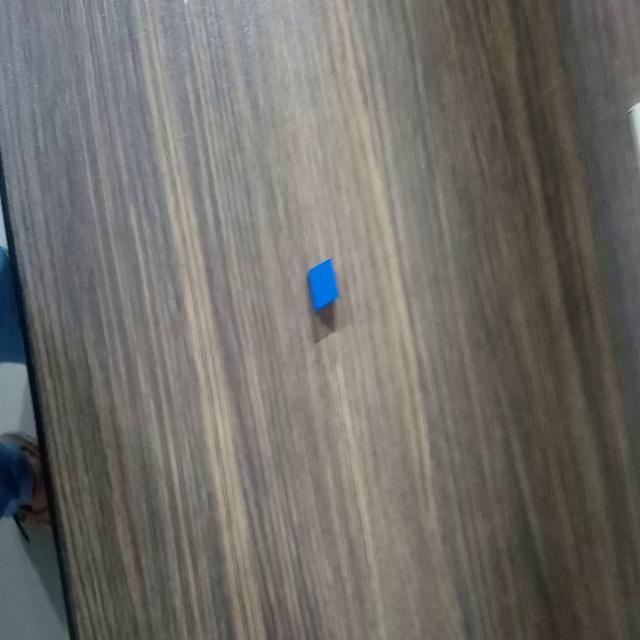cube: (305, 255, 339, 314)
